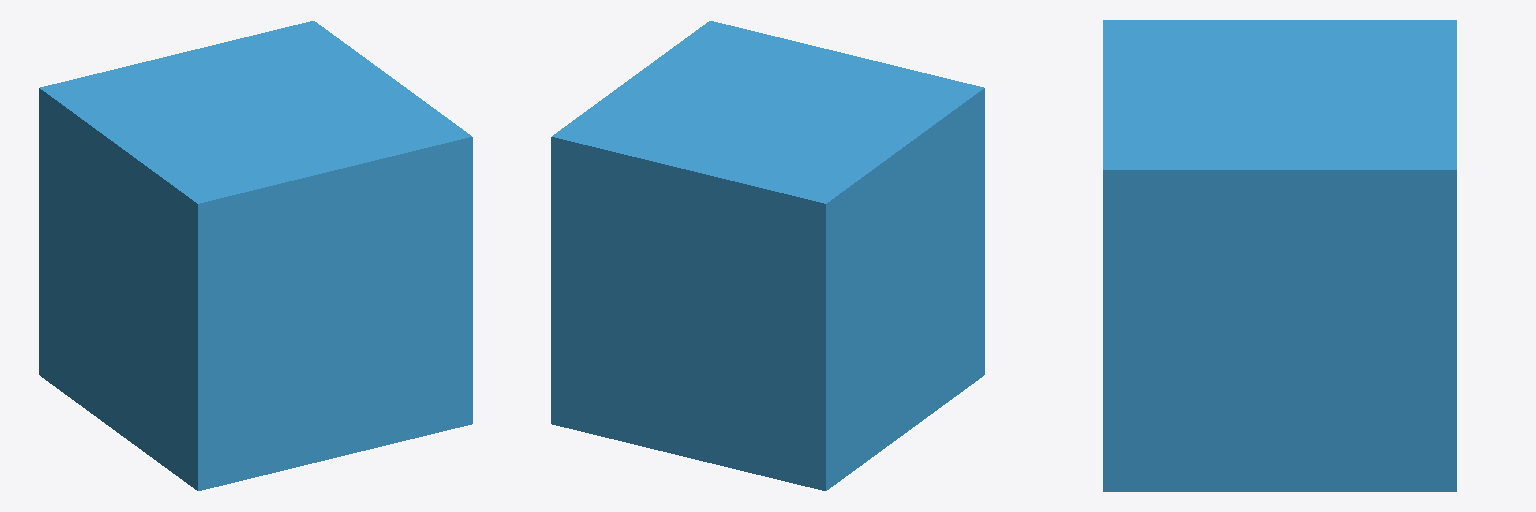
robot.urdf — kinect:
<?xml version="1.0"?>
<robot name="kinect">

    <link name="world"/>

    <joint name="world_to_camera_joint" type="fixed">
      <origin xyz="0.5 0 0.99" rpy="0 1.57 0"/>
      <parent link="world"/>
      <child link="camera_link"/>
    </joint>

    <link name="camera_link">
        <collision>
          <origin xyz="0 0 0" rpy="0 0 0"/>
          <geometry>
            <box size="0.05 0.05 0.05"/>
          </geometry>
        </collision>
    
        <visual>
          <origin xyz="0 0 0" rpy="0 0 0"/>
          <geometry>
            <box size="0.05 0.05 0.05"/>
          </geometry>
          <material name="red"/>
        </visual>
    
        <inertial>
          <mass value="1e-5" />
          <origin xyz="0 0 0" rpy="0 0 0"/>
          <inertia ixx="1e-6" ixy="0" ixz="0" iyy="1e-6" iyz="0" izz="1e-6" />
        </inertial>
      </link>  

    <gazebo reference="camera_link">
        <sensor name="world" type="depth">
            <!-- openni plugin has the x pointing towards the scene, so rotate to have z -->
            <pose frame="world">0.0 0.0 0.0 0.0 0.0 0.0</pose>
            <camera>
                <!-- <horizontal_fov>1.047198</horizontal_fov> -->
                <horizontal_fov>0.7</horizontal_fov>
                <!-- <horizontal_fov>0.7</horizontal_fov> -->
                <image>
                    <width>1024</width>
                    <height>1024</height>
                    <format>B8G8R8</format>
                </image>
                <clip>
                    <near>0.01</near>
                    <far>3</far>
                </clip>
                <!-- <noise>
                    <type>gaussian</type>
                    <mean>0.5</mean>
                    <stddev>1.0</stddev>
                </noise> -->
            </camera>
            <plugin name="kinect_plugin" filename="libgazebo_ros_openni_kinect.so">
                <baseline>0.1</baseline>
                <alwaysOn>true</alwaysOn>
                <!-- Keep this zero, update_rate in the parent <sensor> tag
                will control the frame rate. -->
                <updateRate>0.0</updateRate>
                <cameraName>panda_camera</cameraName>
                <imageTopicName>/panda_camera/rgb/image_raw</imageTopicName>
                <cameraInfoTopicName>/panda_camera/rgb/camera_info</cameraInfoTopicName>
                <depthImageTopicName>/panda_camera/depth/image_raw</depthImageTopicName>
                <depthImageInfoTopicName>/panda_camera/depth/camera_info</depthImageInfoTopicName>
                <pointCloudTopicName>/panda_camera/point_cloud</pointCloudTopicName>
                <frameName>camera_link</frameName>
                <pointCloudCutoff>0.1</pointCloudCutoff>
                <pointCloudCutoffMax>3</pointCloudCutoffMax>
                <distortionK1>0</distortionK1>
                <distortionK2>0</distortionK2>
                <distortionK3>0</distortionK3>
                <distortionT1>0</distortionT1>
                <distortionT2>0</distortionT2>
                <CxPrime>0</CxPrime>
                <Cx>0</Cx>
                <Cy>0</Cy>
                <focalLength>0</focalLength>
                <hackBaseline>0</hackBaseline>
            </plugin>
            <always_on>true</always_on>
            <update_rate>1.0</update_rate>
            <visualize>true</visualize>
        </sensor>
    </gazebo>
</robot>

--- What the picture shows (computed from the rendered views, not written in the file) ---
Views: 3 orthographic renders of the robot side by side, from view 1: azimuth 30°, elevation 25°; view 2: azimuth 150°, elevation 25°; view 3: azimuth 270°, elevation 25°.
Robot: kinect — 2 links, 1 joints (1 fixed); root link world; default pose: every joint at zero.
Visible links, largest first — view 1: camera_link; view 2: camera_link; view 3: camera_link.
Link boxes in pixels (bbox=[...]): camera_link: bbox=[39, 21, 472, 490]; camera_link: bbox=[551, 21, 984, 490]; camera_link: bbox=[1103, 20, 1456, 491].
Bounding box of the posed robot: 0.05 × 0.05 × 0.05 m (x, y, z).
Geometry: primitives only (box / cylinder / sphere), no mesh files.